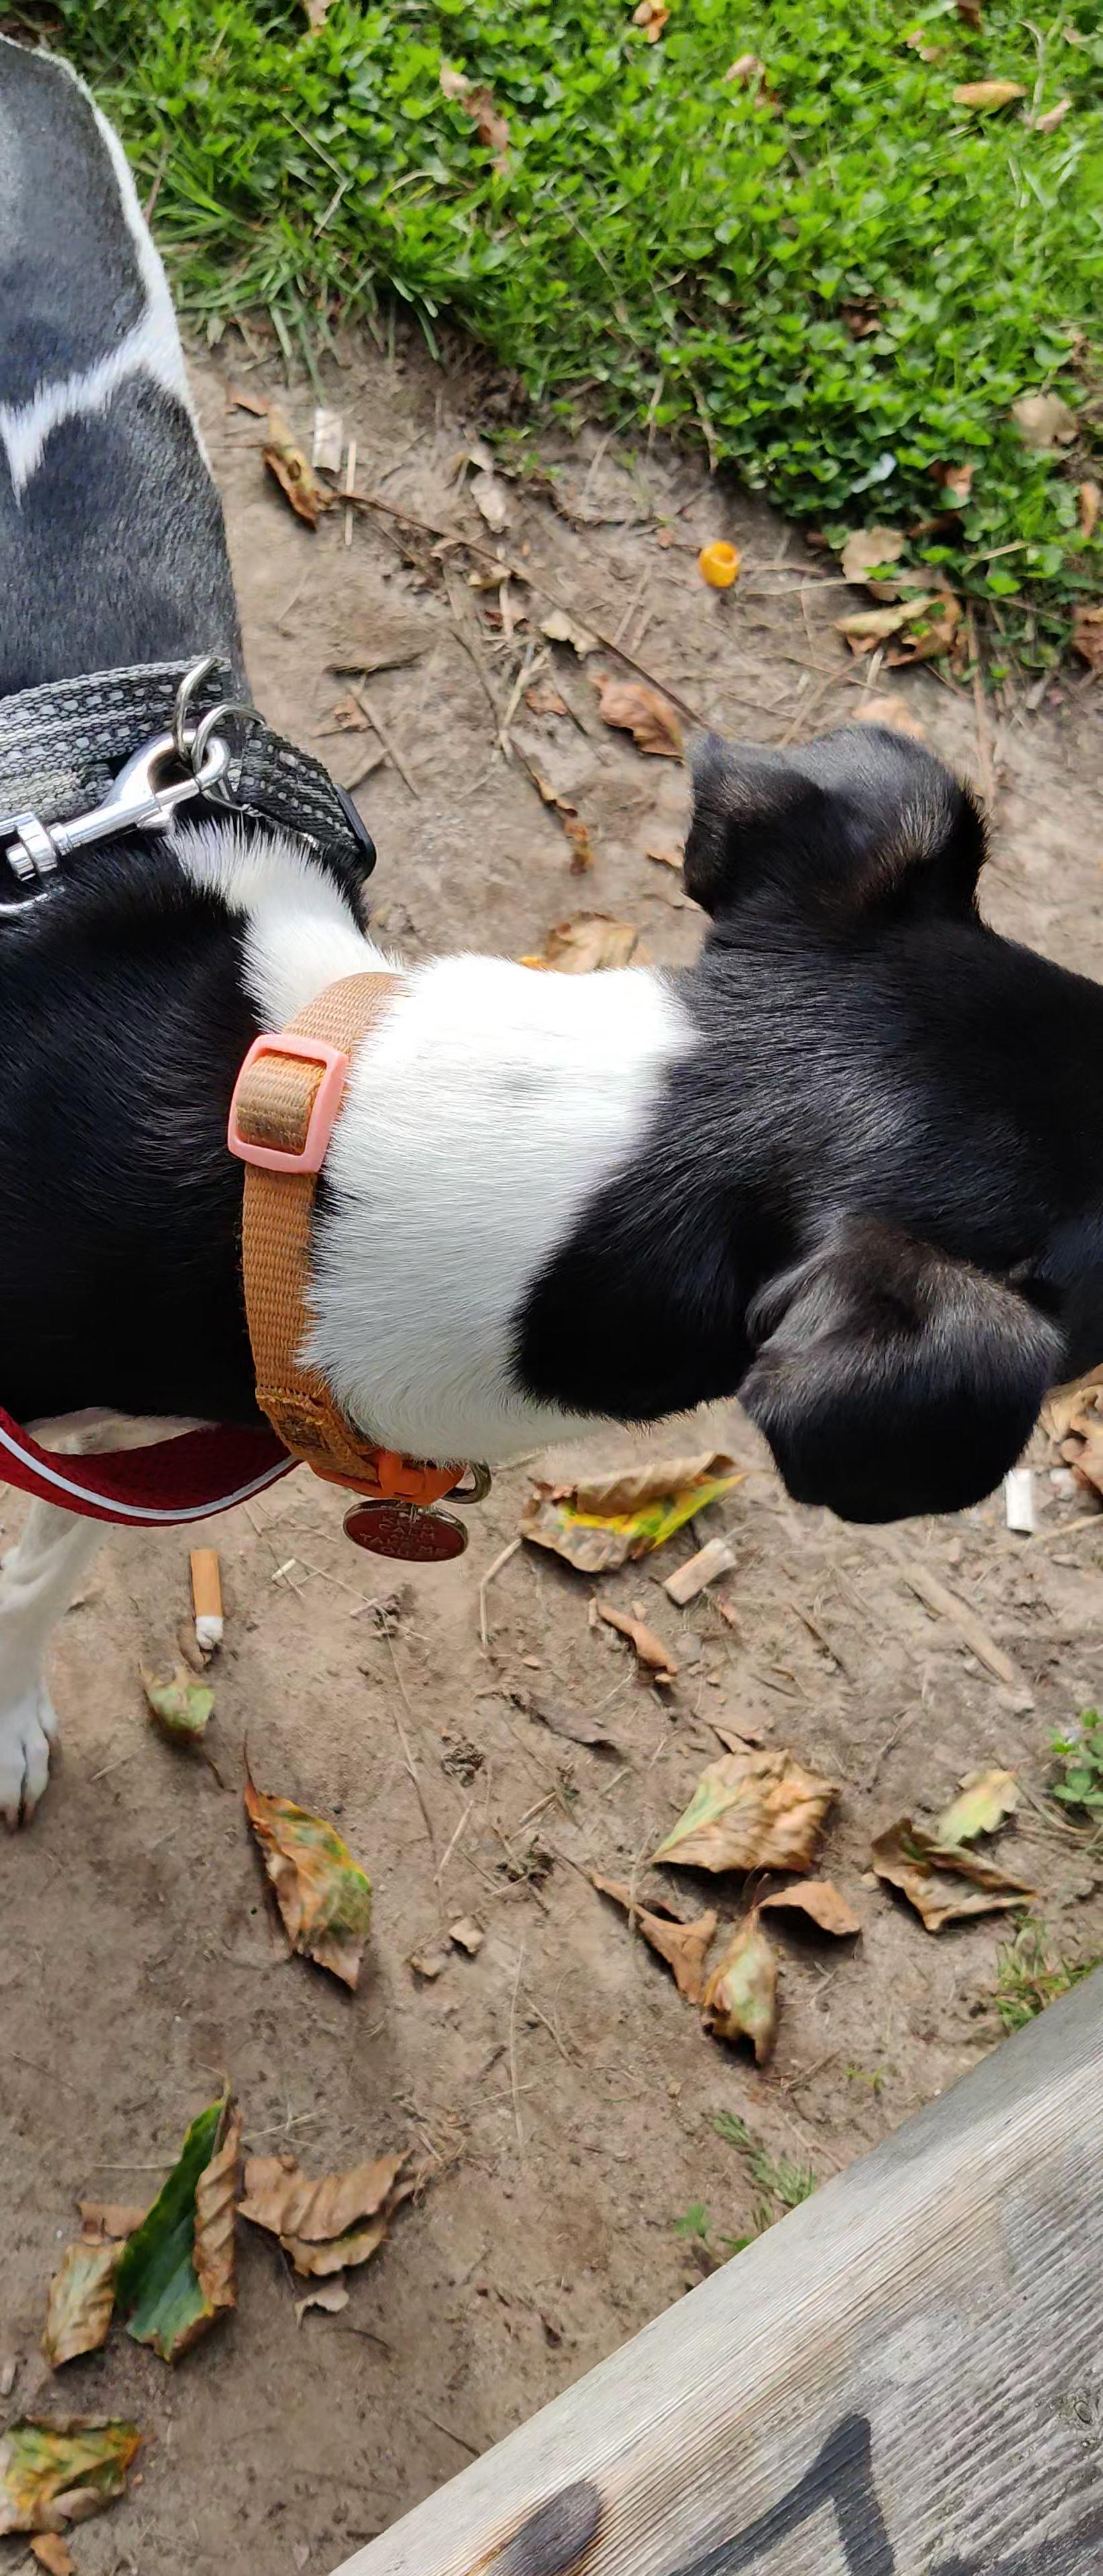Dog: (0, 0, 1103, 1840)
